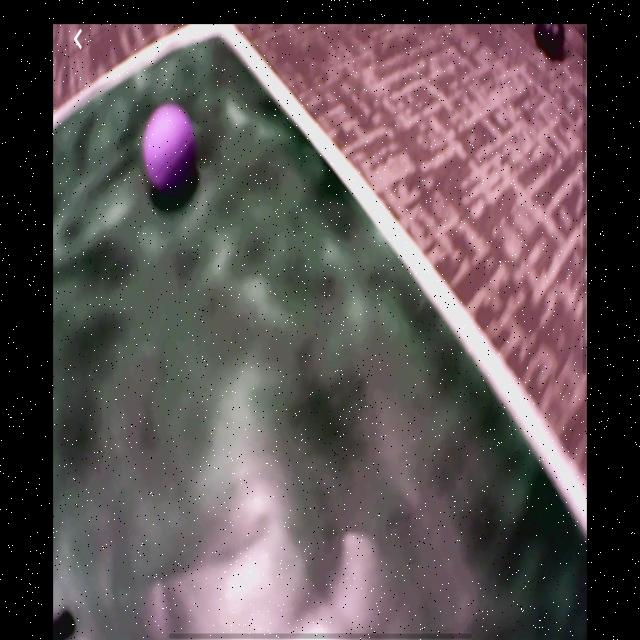ball: (142, 104, 197, 192)
